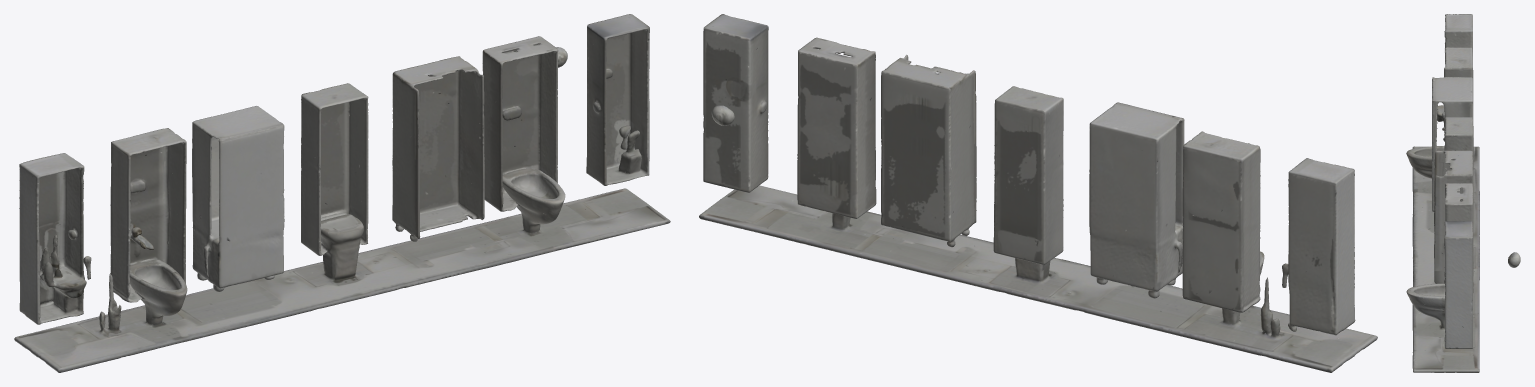
File: Meshy_AI_Row_of_Stalls_in_a_Mo_0318093838_texture.glb
3 renders of one model, left to right at view 1: azimuth 30°, elevation 25°; view 2: azimuth 150°, elevation 25°; view 3: azimuth 270°, elevation 25°, orthographic. The views are drawn at different scales.
Size of the model in its own units: 2.01 by 0.568 by 0.4315.
Materials: 1 (1 with a texture image).
